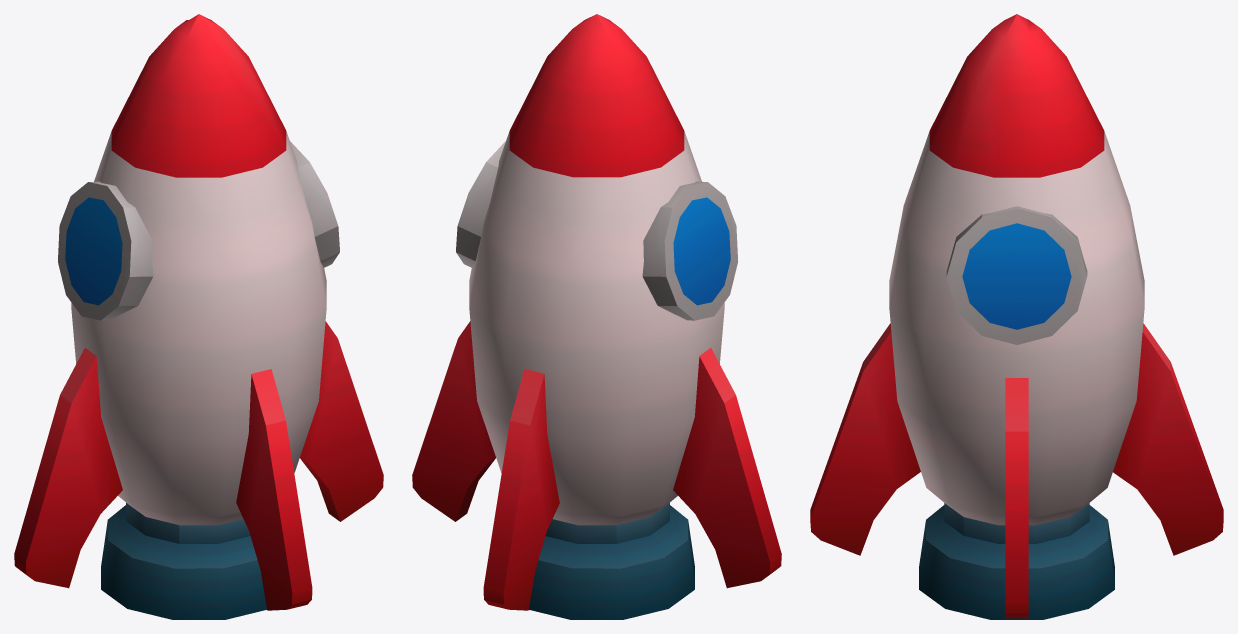
The model's file is Rocket toy.fbx.
The picture shows the model from 3 angles, left to right: view 1: azimuth 30°, elevation 25°; view 2: azimuth 150°, elevation 25°; view 3: azimuth 270°, elevation 25°; orthographic projection.
Visible parts, largest first — view 1: Rocket toy; view 2: Rocket toy; view 3: Rocket toy.
Boxes of the visible parts, <box> form: Rocket toy: <box>14,14,383,619</box>; Rocket toy: <box>412,14,781,619</box>; Rocket toy: <box>810,14,1223,619</box>.
Size of the model in its own units: 15.96 by 24.05 by 15.96.
Materials: 1 (1 with a texture image).
